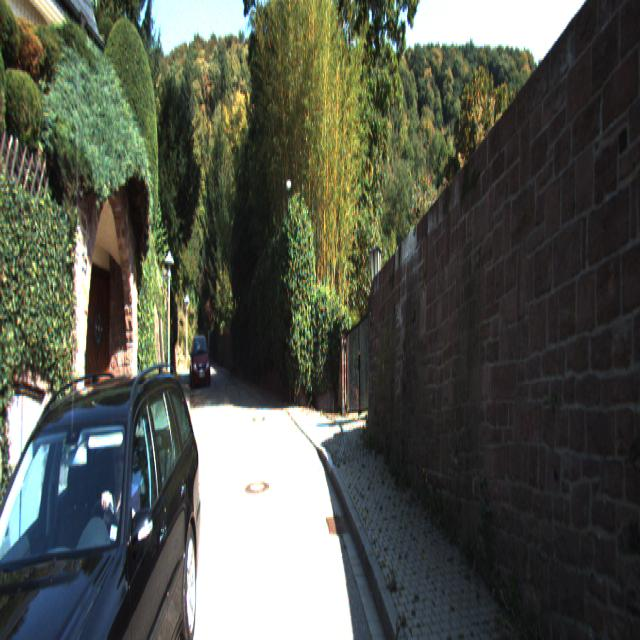Car: (0, 350, 202, 638), (191, 331, 211, 391)
